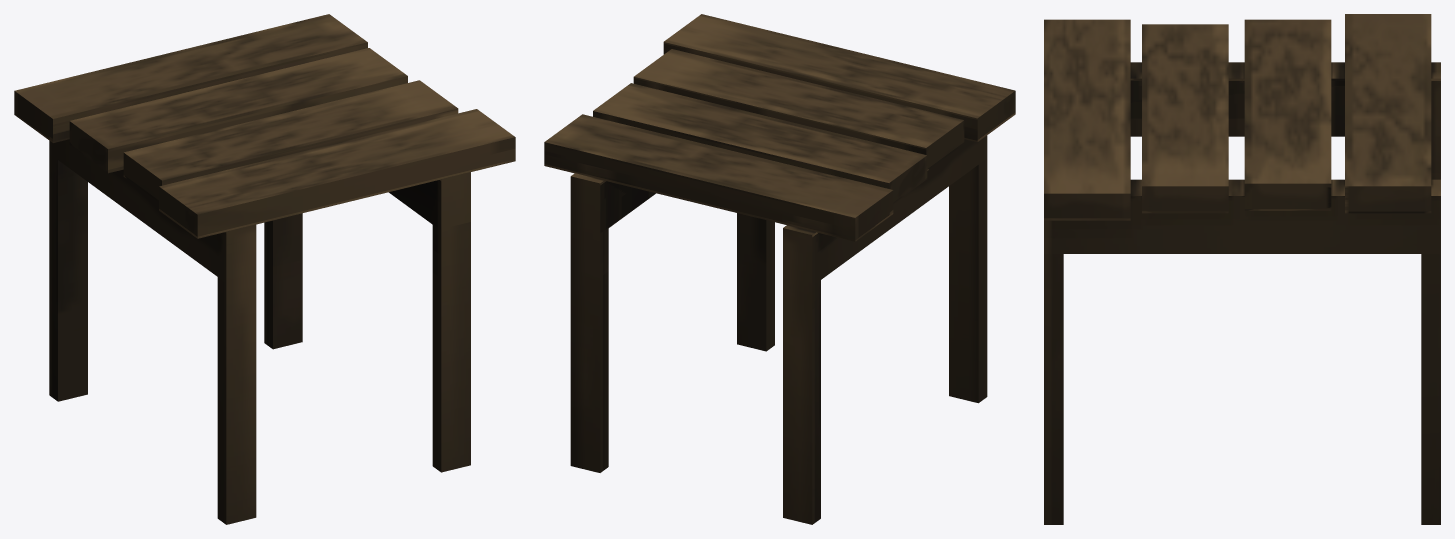
File: Bridge.glb
3 renders of one model, left to right at view 1: azimuth 30°, elevation 25°; view 2: azimuth 150°, elevation 25°; view 3: azimuth 270°, elevation 25°, orthographic. The views are drawn at different scales.
Visible parts, largest first — view 1: Cube.001; view 2: Cube.001; view 3: Cube.001.
Boxes of the visible parts, box(x1,y1,x2,y2) form: Cube.001: box(14, 14, 515, 524); Cube.001: box(544, 14, 1015, 524); Cube.001: box(1044, 14, 1440, 524).
Size of the model in its own units: 1.07 by 0.9898 by 1.
1 material, 1 textured.
